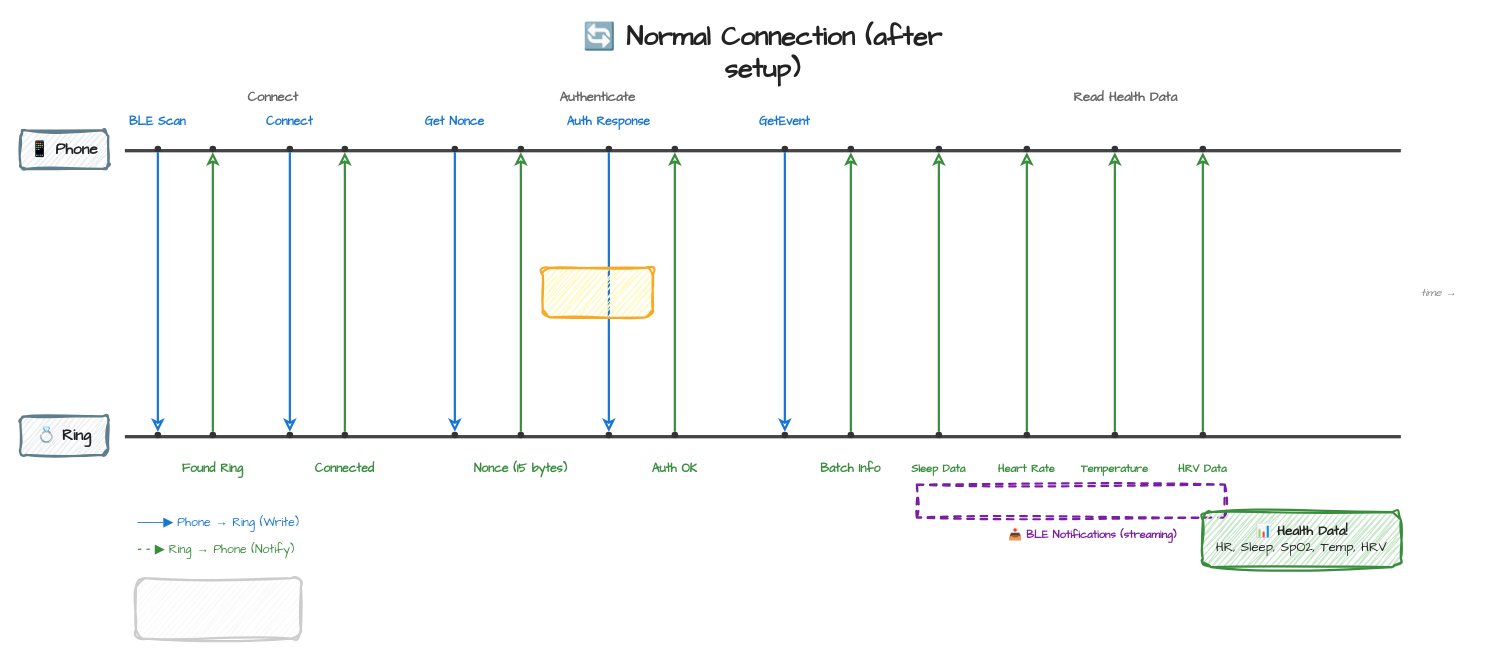
This 1485x659 diagram has some shape labels left out. The shapes that lost their labels are listed below. From the top down, each one's box as (x1, y1, x2, y2) in pixels, then its label:
(541, 266, 653, 318): 🔐 AES-128 Encrypt nonce
(134, 576, 301, 639): BLE Characteristics: Write: 98ed0002-... Notify: 98ed0003-...
